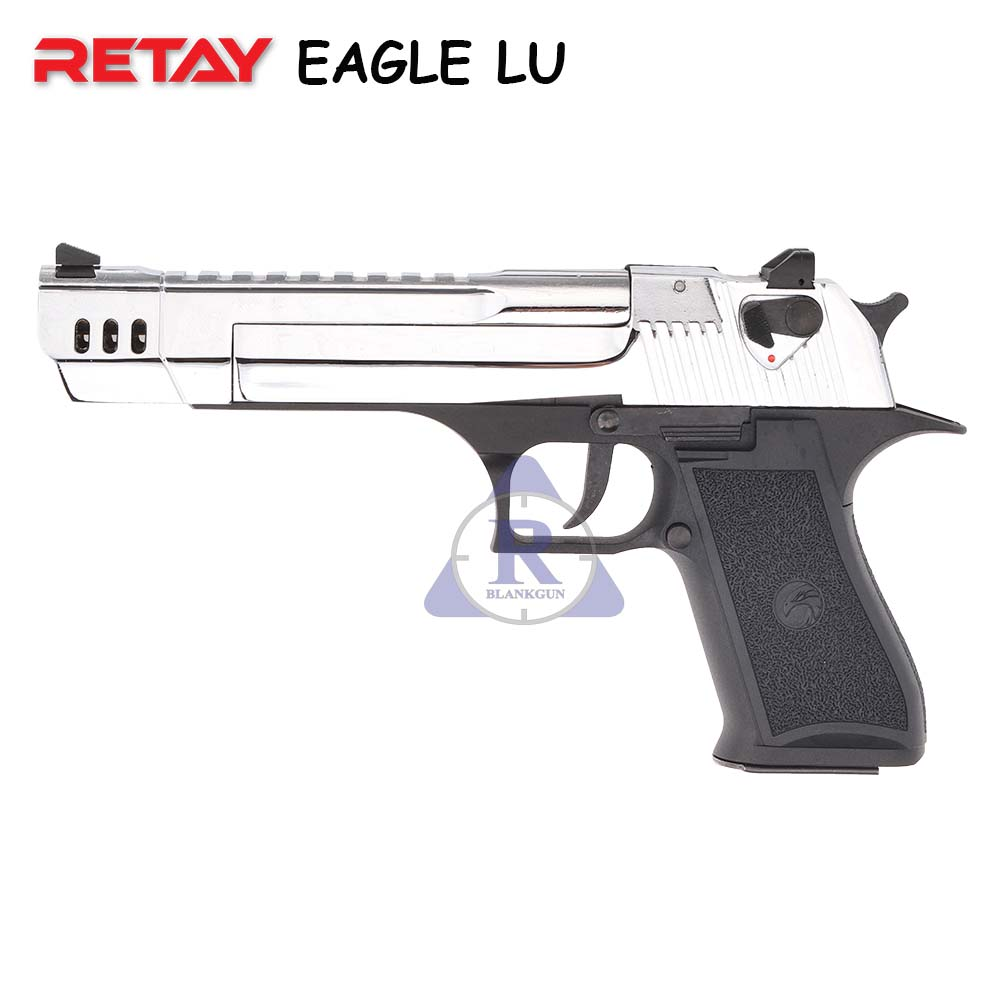gun: (22, 225, 975, 795)
